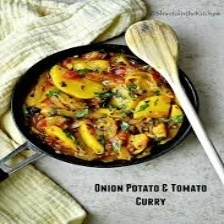sabzi: (24, 52, 188, 163)
